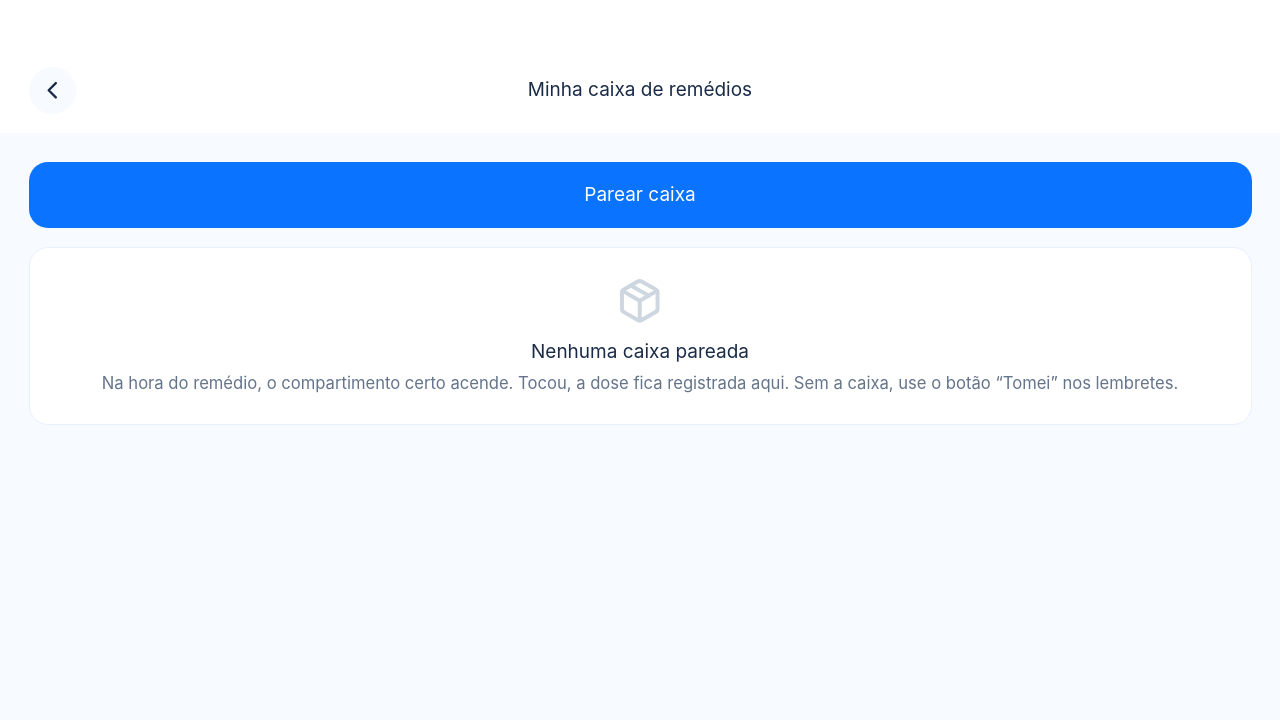
Test: telas › pareia a caixa com o código e depois despareia
Later steps or results of the test are not shown.
Expected: the text "Nenhuma caixa pareada" is shown, [531,340,749,363]
Step 1. Click the button "Parear caixa" → (640, 195), box [28,162,1252,228]
(page scrolled)
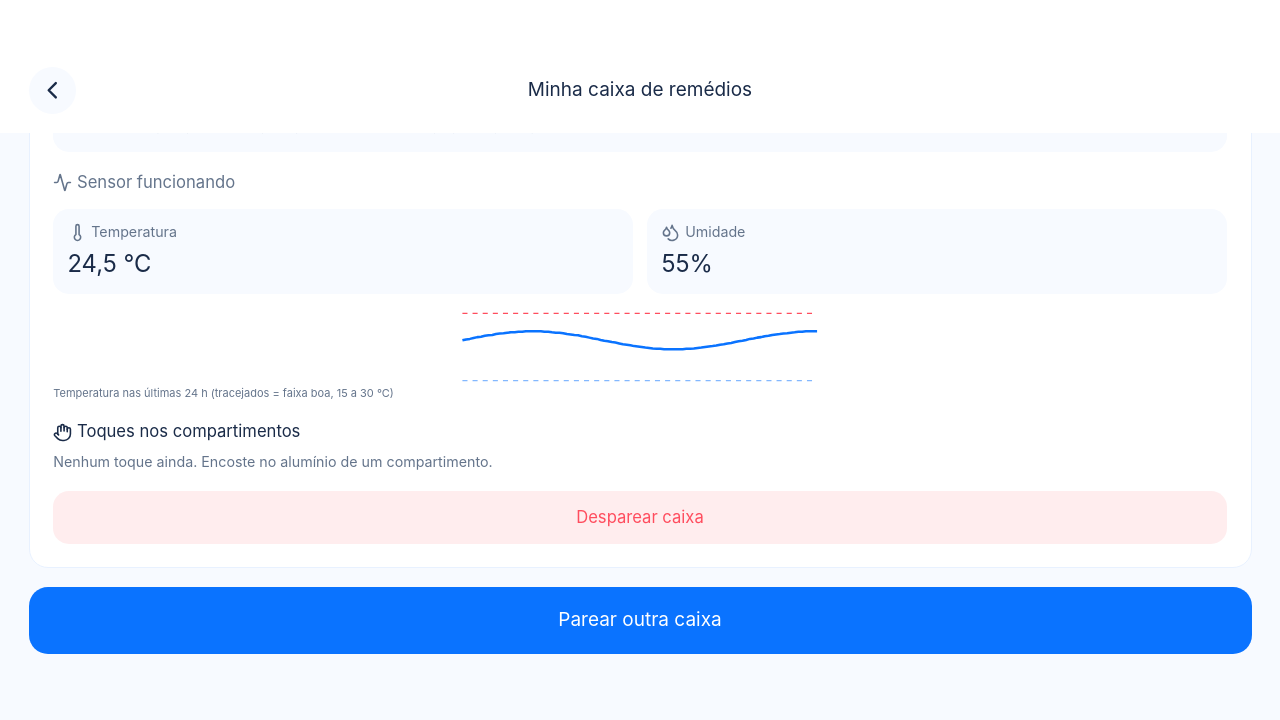
Result: the text "24,5 °C" is shown at [68,249,151,278]
